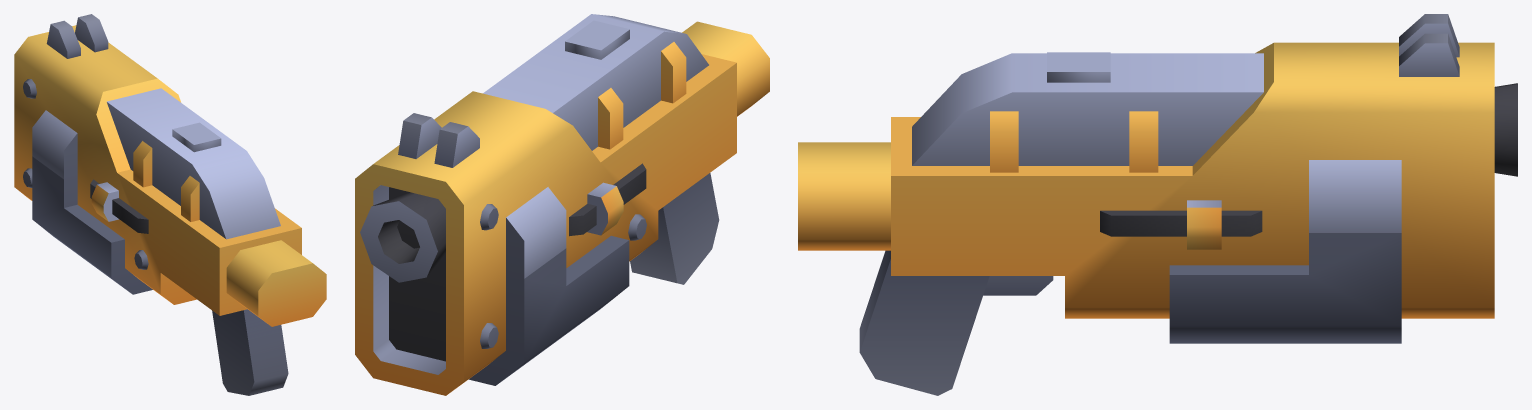
File: blaster-m.glb
3 views of the same model, side by side, from view 1: azimuth 30°, elevation 25°; view 2: azimuth 150°, elevation 25°; view 3: azimuth 270°, elevation 25° (orthographic). The views are drawn at different scales.
Visible parts, largest first — view 1: blaster-m; view 2: blaster-m; view 3: blaster-m.
Boxes of the visible parts, x1,y1,x2,y2 form: blaster-m: [14, 14, 326, 395]; blaster-m: [355, 14, 769, 395]; blaster-m: [798, 14, 1517, 395].
Size of the model in its own units: 0.165 by 0.3374 by 0.6201.
1 material, 1 textured.
